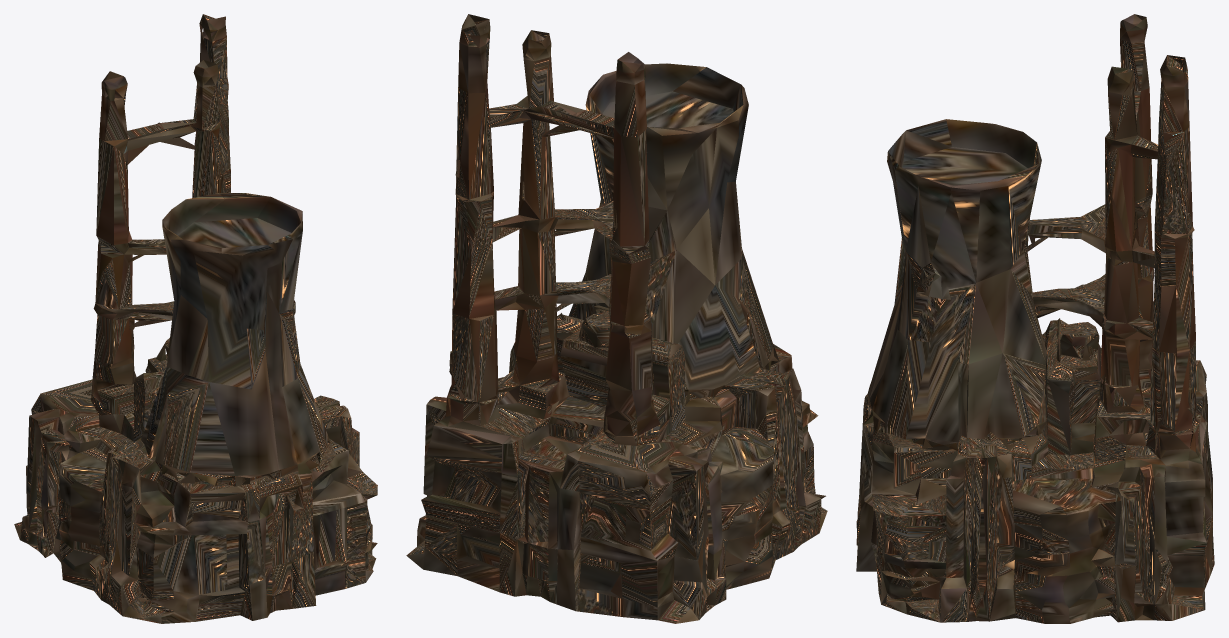
The model's file is f04_far.glb.
3 renders of one model, left to right at view 1: azimuth 30°, elevation 25°; view 2: azimuth 150°, elevation 25°; view 3: azimuth 270°, elevation 25°, orthographic. The views are drawn at different scales.
Visible parts, largest first — view 1: f04_far; view 2: f04_far; view 3: f04_far.
Part boxes in pixels (x1=…): f04_far: x1=14, y1=14, x2=377, y2=623; f04_far: x1=406, y1=14, x2=827, y2=623; f04_far: x1=856, y1=14, x2=1214, y2=623.
Bounding box in the file's own units: 55.65 × 96 × 58.41.
Materials: 1 (1 with a texture image).
